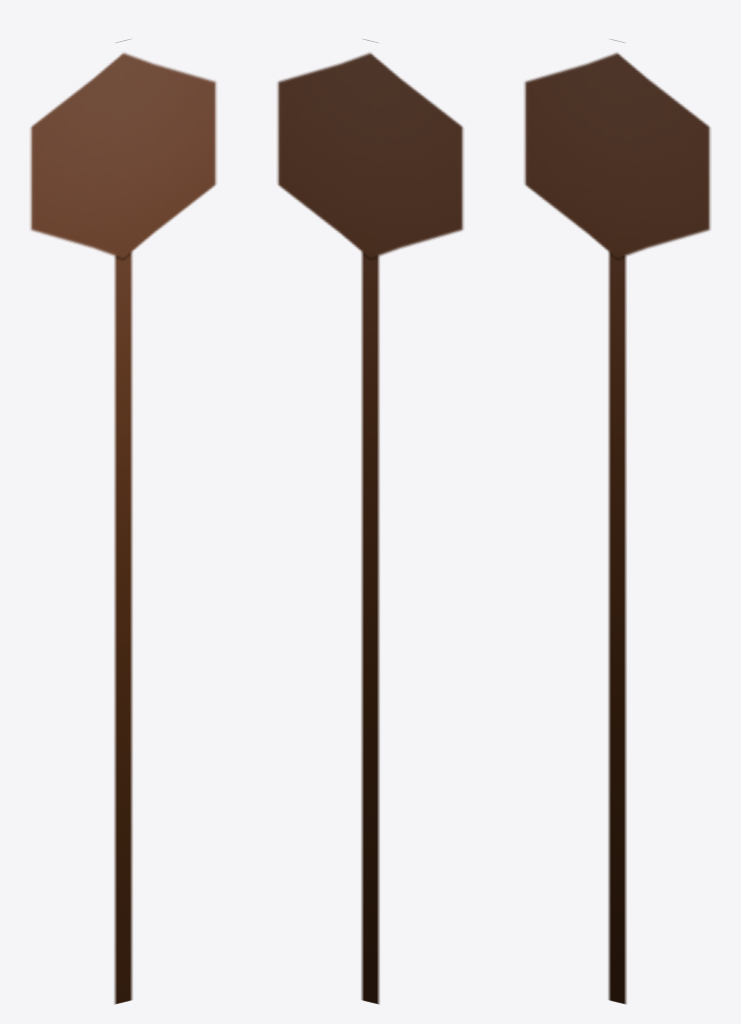
File: 3d Selectable Indicator.glb
The picture shows the model from 3 angles, left to right: view 1: azimuth 30°, elevation 25°; view 2: azimuth 150°, elevation 25°; view 3: azimuth 330°, elevation 25°; orthographic projection.
Visible parts, largest first — view 1: Selectable 3d; view 2: Selectable 3d; view 3: Selectable 3d.
Boxes of the visible parts, x1,y1,x2,y2 form: Selectable 3d: [30, 39, 216, 1004]; Selectable 3d: [277, 39, 463, 1004]; Selectable 3d: [524, 39, 710, 1004].
Size of the model in its own units: 0.3564 by 1.5 by 7.15e-08.
Materials: 1 (1 with a texture image).
